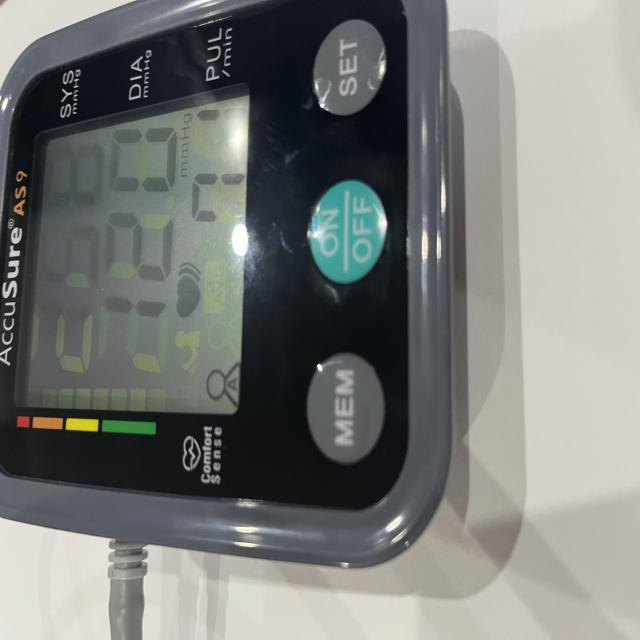bp: (0, 0, 466, 571)
